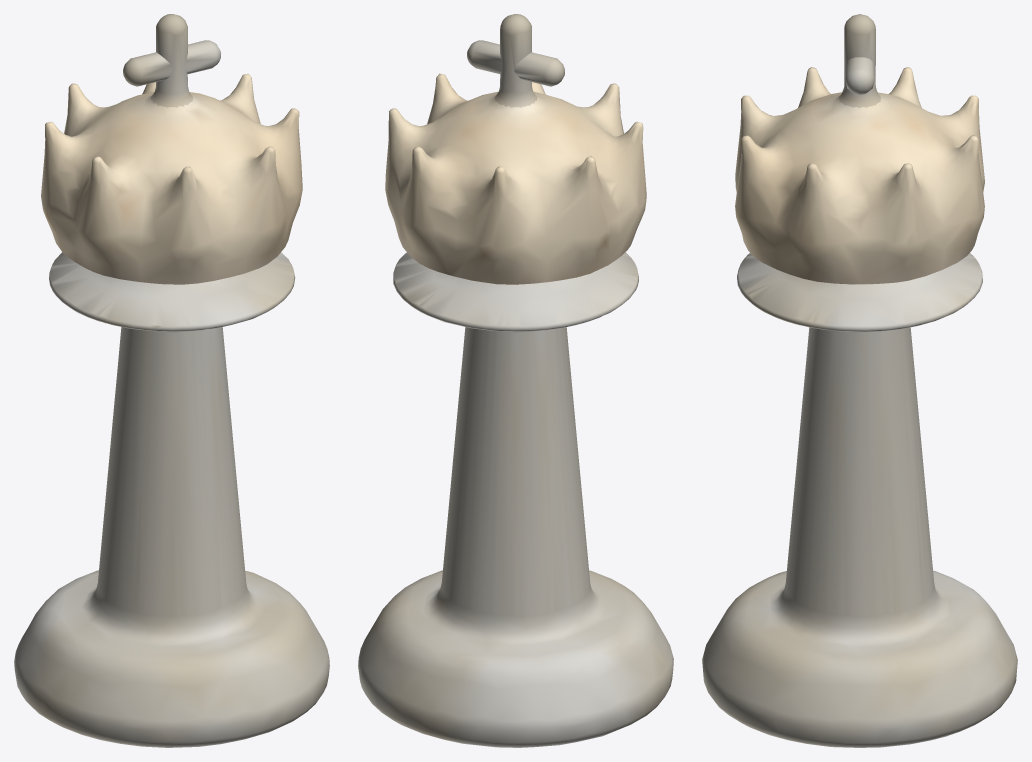
The model's file is king-light.glb.
3 views of the same model, side by side, from view 1: azimuth 30°, elevation 25°; view 2: azimuth 150°, elevation 25°; view 3: azimuth 270°, elevation 25° (orthographic).
Visible parts, largest first — view 1: body; view 2: body; view 3: body.
Part boxes in pixels (x1,y1,x2,y2): body: (14, 14, 329, 747); body: (358, 14, 673, 747); body: (702, 14, 1017, 747).
Bounding box in the file's own units: 2.39 × 5.63 × 2.39.
